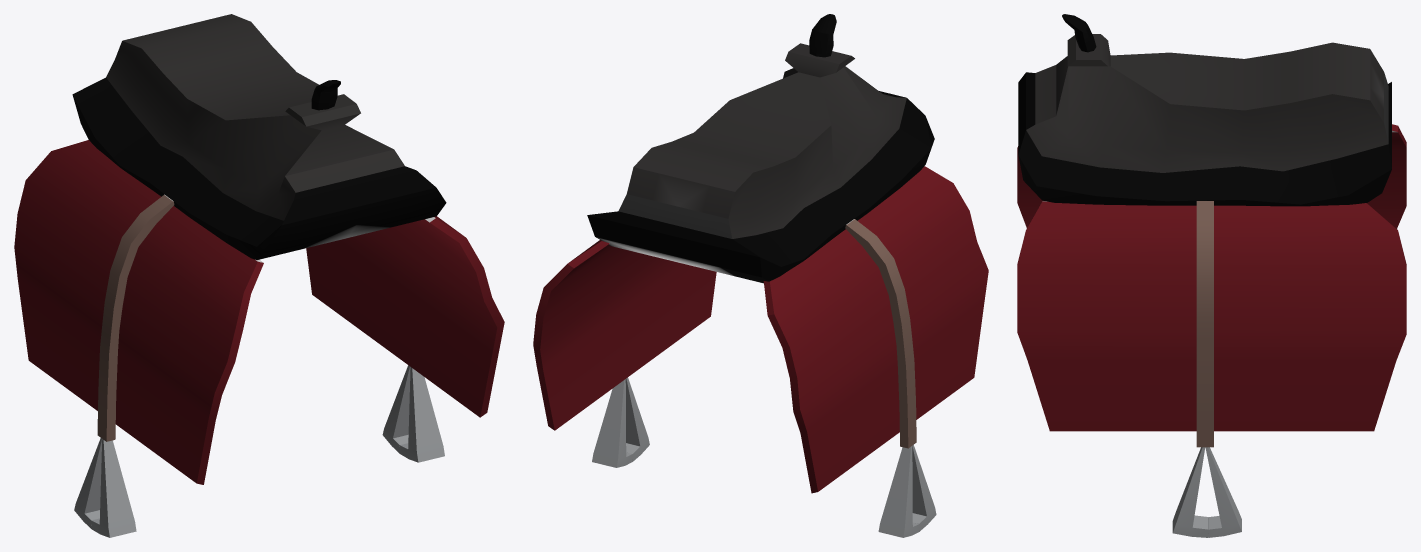
File: Cela.fbx
3 views of the same model, side by side, from view 1: azimuth 30°, elevation 25°; view 2: azimuth 150°, elevation 25°; view 3: azimuth 270°, elevation 25° (orthographic). The views are drawn at different scales.
Parts seen in each view (by area): view 1: Sela; view 2: Sela; view 3: Sela.
Part boxes in pixels (x1=…): Sela: x1=14, y1=14, x2=504, y2=537; Sela: x1=533, y1=14, x2=988, y2=537; Sela: x1=1017, y1=14, x2=1406, y2=537.
Bounding box in the file's own units: 289 × 302 × 380.
